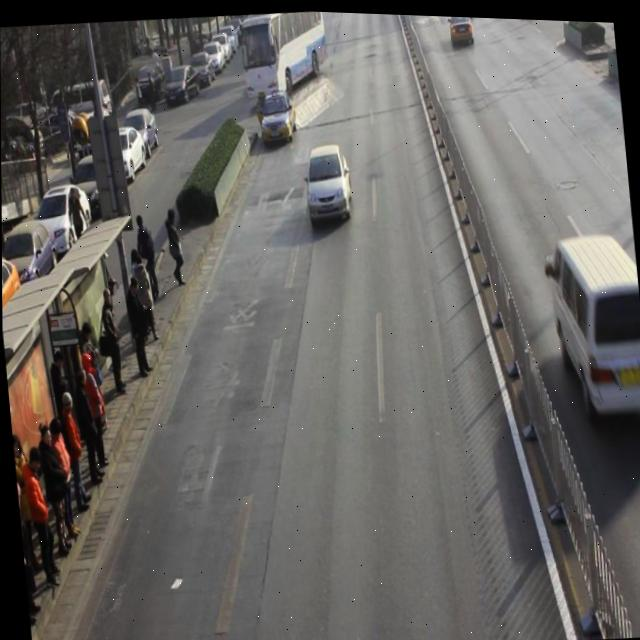car: (302, 139, 355, 223), (257, 84, 298, 146), (447, 13, 474, 46)
truck: (547, 224, 640, 424)
van: (237, 7, 328, 93)
